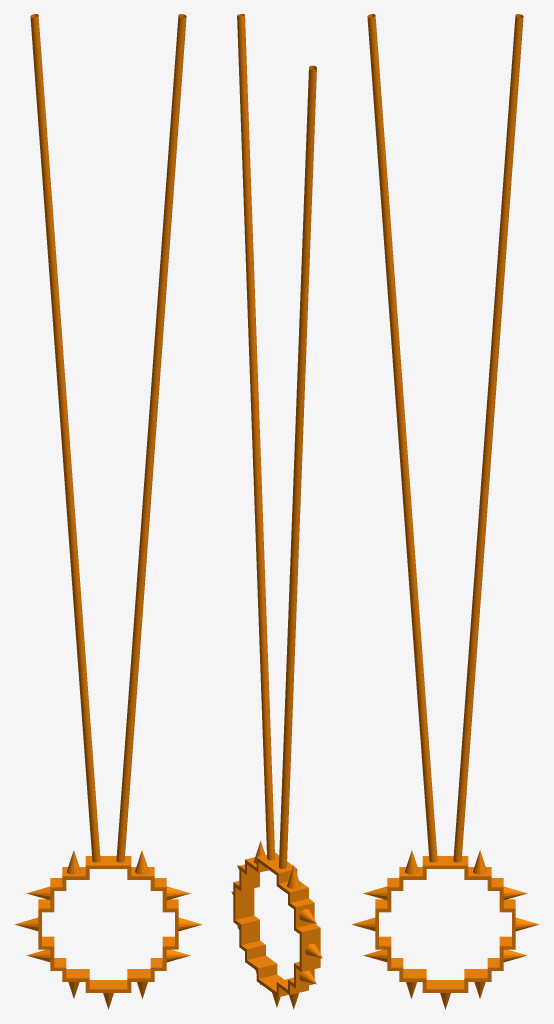
Rendered from cutter6_pixel.fbx.
The picture shows the model from 3 angles, left to right: view 1: azimuth 90°, elevation 25°; view 2: azimuth 210°, elevation 25°; view 3: azimuth 270°, elevation 25°; orthographic projection. The views are drawn at different scales.
Visible parts, largest first — view 1: Cutter6_Pixel; view 2: Cutter6_Pixel; view 3: Cutter6_Pixel.
Boxes of the visible parts, x1,y1,x2,y2 form: Cutter6_Pixel: (14,14,202,1009); Cutter6_Pixel: (231,14,322,1009); Cutter6_Pixel: (351,14,539,1009).
Size of the model in its own units: 16.87 by 827 by 142.
